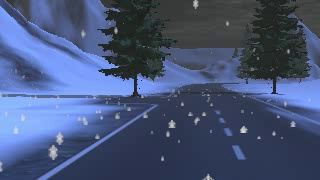Lane: (42, 82, 318, 179)
